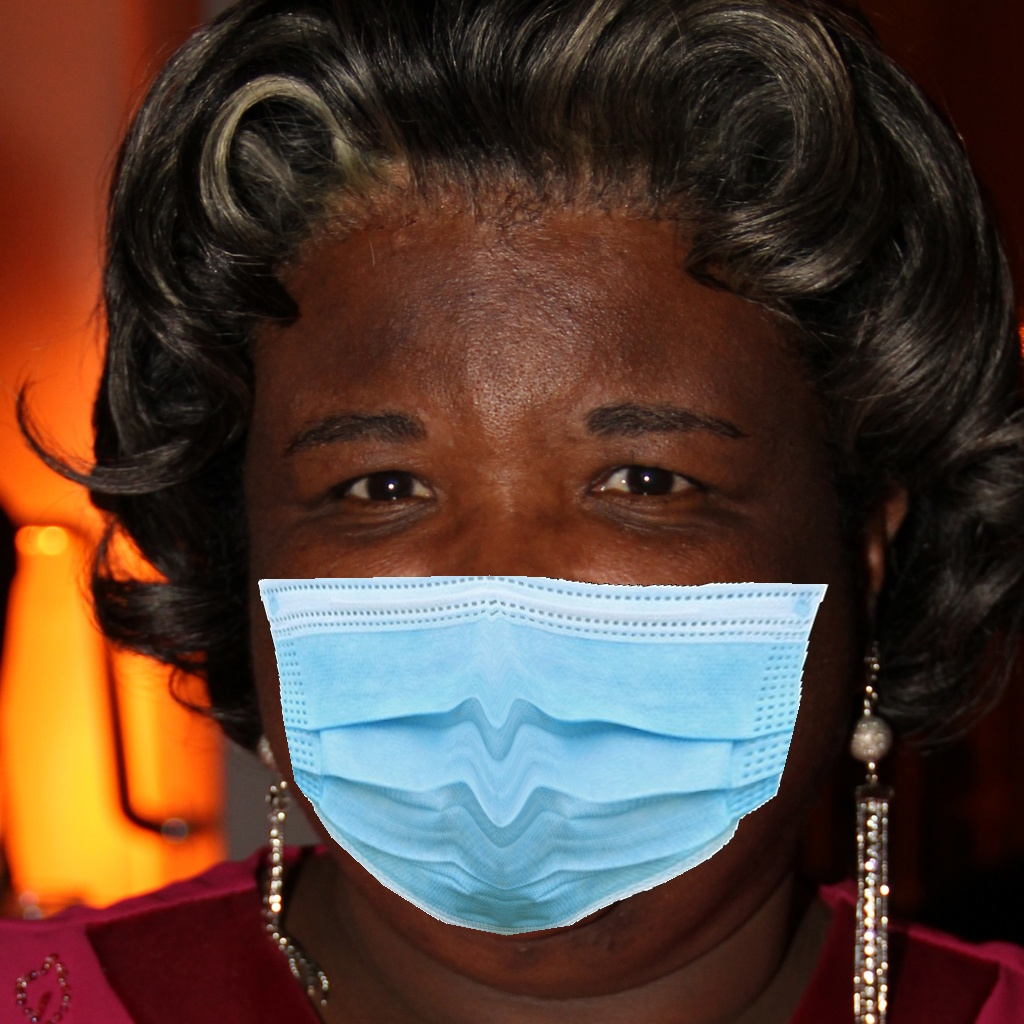Mask: (253, 344, 842, 938)
